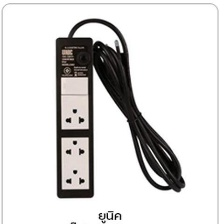three_eye_plug: (53, 35, 96, 200)
